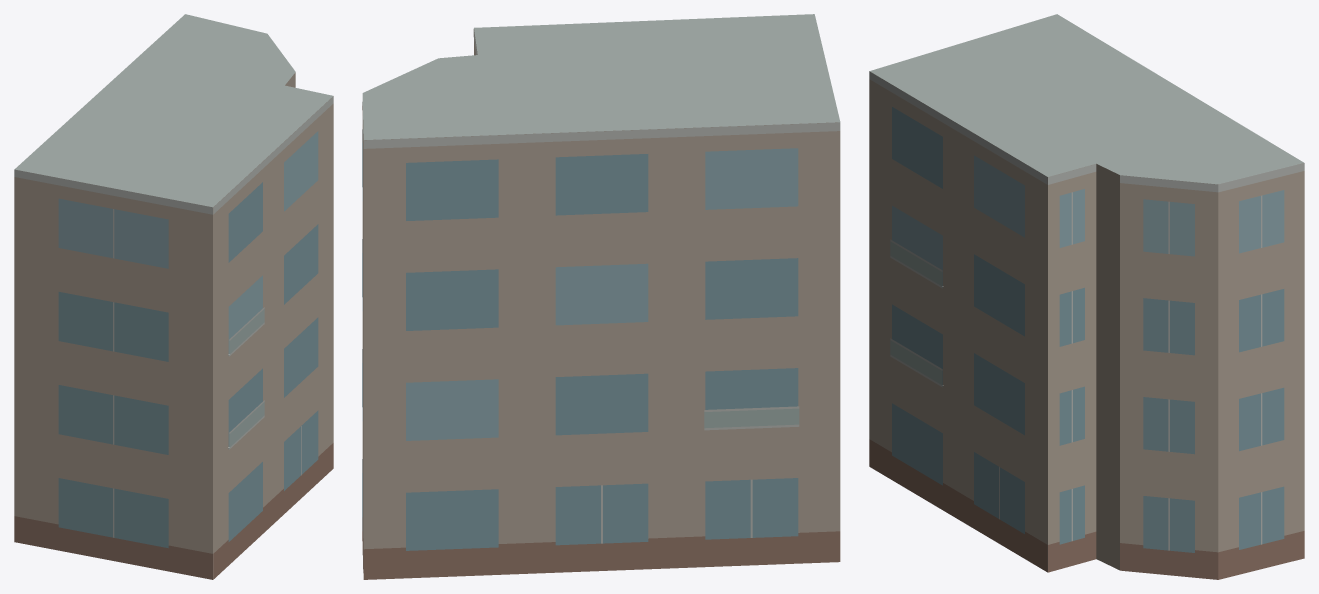
Rendered from survey-upis-32976194.glb.
The picture shows the model from 3 angles, left to right: view 1: azimuth 30°, elevation 25°; view 2: azimuth 150°, elevation 25°; view 3: azimuth 270°, elevation 25°; orthographic projection. The views are drawn at different scales.
Visible parts, largest first — view 1: survey-upis-32976194.tmp; view 2: survey-upis-32976194.tmp; view 3: survey-upis-32976194.tmp.
Part boxes in pixels (x1,y1,x2,y2): survey-upis-32976194.tmp: (14, 14, 333, 579); survey-upis-32976194.tmp: (362, 14, 840, 579); survey-upis-32976194.tmp: (869, 14, 1304, 579).
Size of the model in its own units: 11.29 by 12.2 by 12.18.
